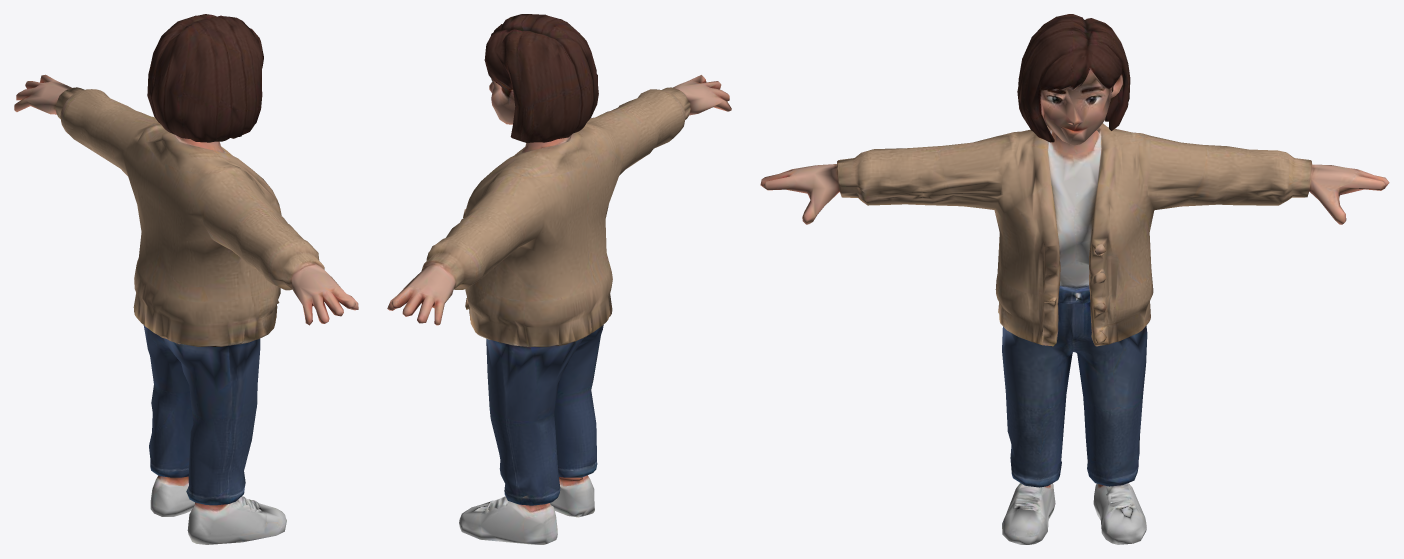
3 views of the same model, side by side, from view 1: azimuth 30°, elevation 25°; view 2: azimuth 150°, elevation 25°; view 3: azimuth 270°, elevation 25° (orthographic).
Parts seen in each view (by area): view 1: tripo_mesh_a5c3f16f-1ef2-4d43-b097-8db17937dc20; view 2: tripo_mesh_a5c3f16f-1ef2-4d43-b097-8db17937dc20; view 3: tripo_mesh_a5c3f16f-1ef2-4d43-b097-8db17937dc20.
Boxes of the visible parts, box(x1,y1,x2,y2) form: tripo_mesh_a5c3f16f-1ef2-4d43-b097-8db17937dc20: box(14, 14, 358, 544); tripo_mesh_a5c3f16f-1ef2-4d43-b097-8db17937dc20: box(387, 14, 731, 544); tripo_mesh_a5c3f16f-1ef2-4d43-b097-8db17937dc20: box(760, 14, 1389, 544).
Size of the model in its own units: 0.4514 by 1.75 by 2.
Materials: 1 (1 with a texture image).
